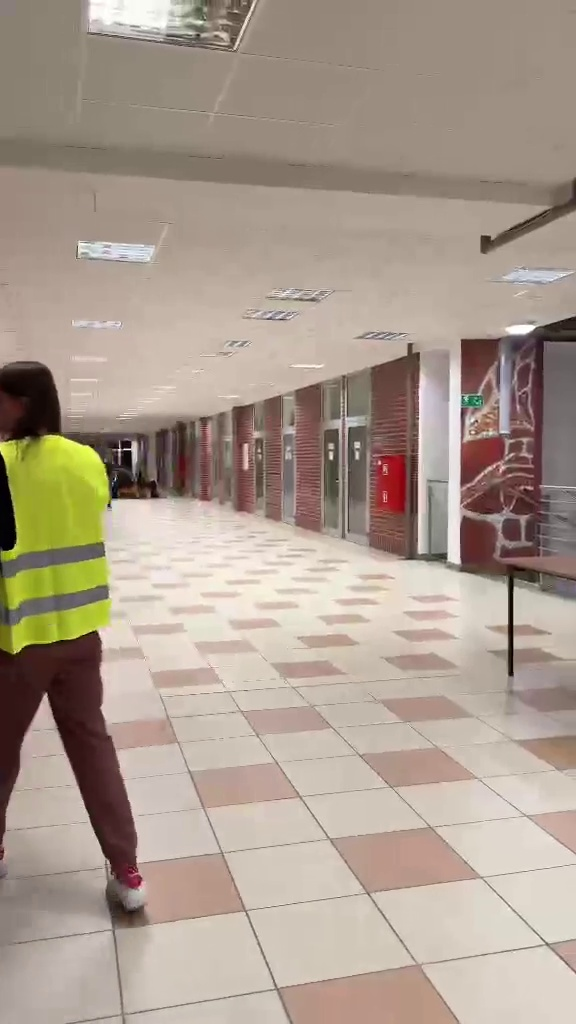vest: (0, 355, 153, 924)
